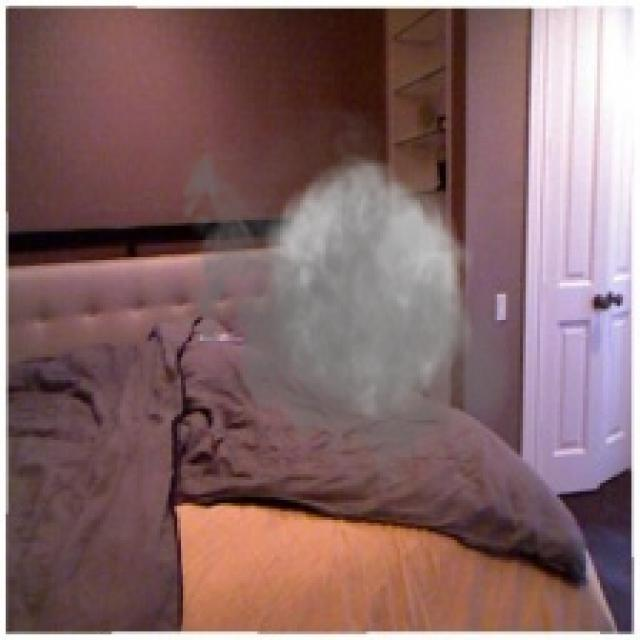smoke: (171, 86, 523, 494)
